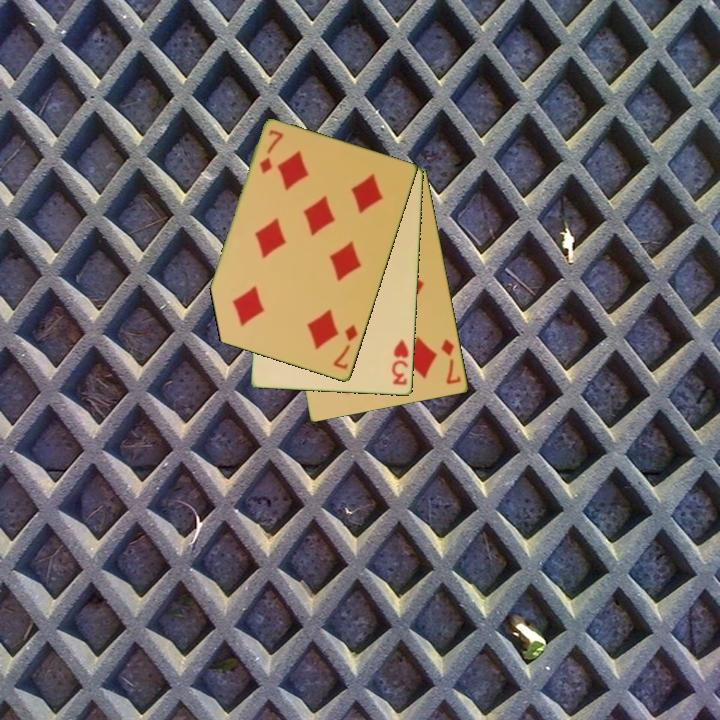3h: (389, 336, 412, 388)
7d: (330, 321, 361, 372), (256, 127, 286, 177), (438, 336, 464, 388)
